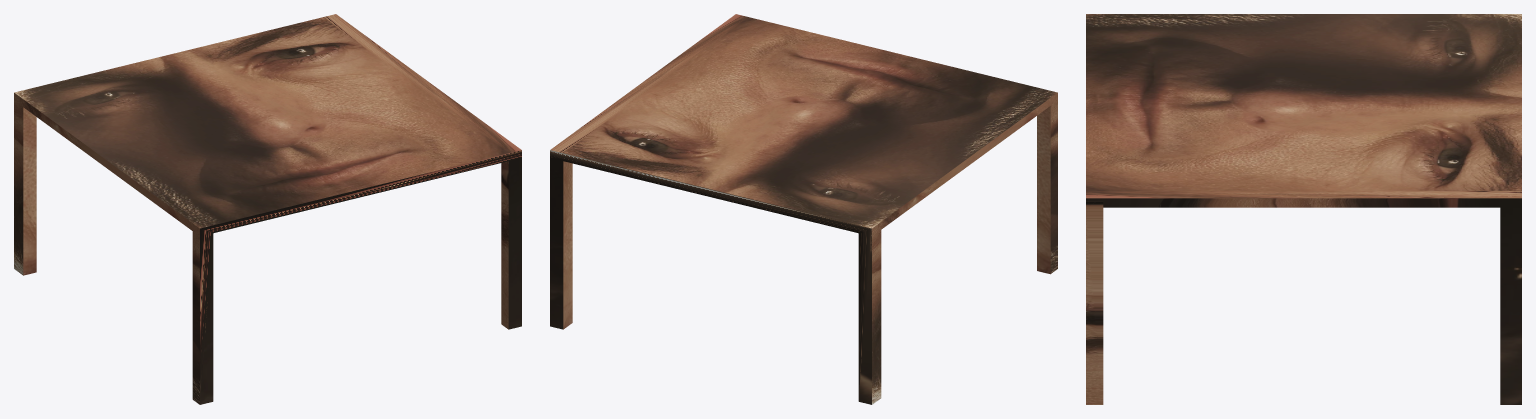
Rendered from saultable.glb.
3 renders of one model, left to right at view 1: azimuth 30°, elevation 25°; view 2: azimuth 150°, elevation 25°; view 3: azimuth 270°, elevation 25°, orthographic. The views are drawn at different scales.
Visible parts, largest first — view 1: saultable; view 2: saultable; view 3: saultable.
Part boxes in pixels (x1=…): saultable: x1=14, y1=14, x2=521, y2=404; saultable: x1=550, y1=14, x2=1057, y2=404; saultable: x1=1086, y1=14, x2=1521, y2=404.
Size of the model in its own units: 2 by 1.05 by 2.
Materials: 1 (1 with a texture image).
